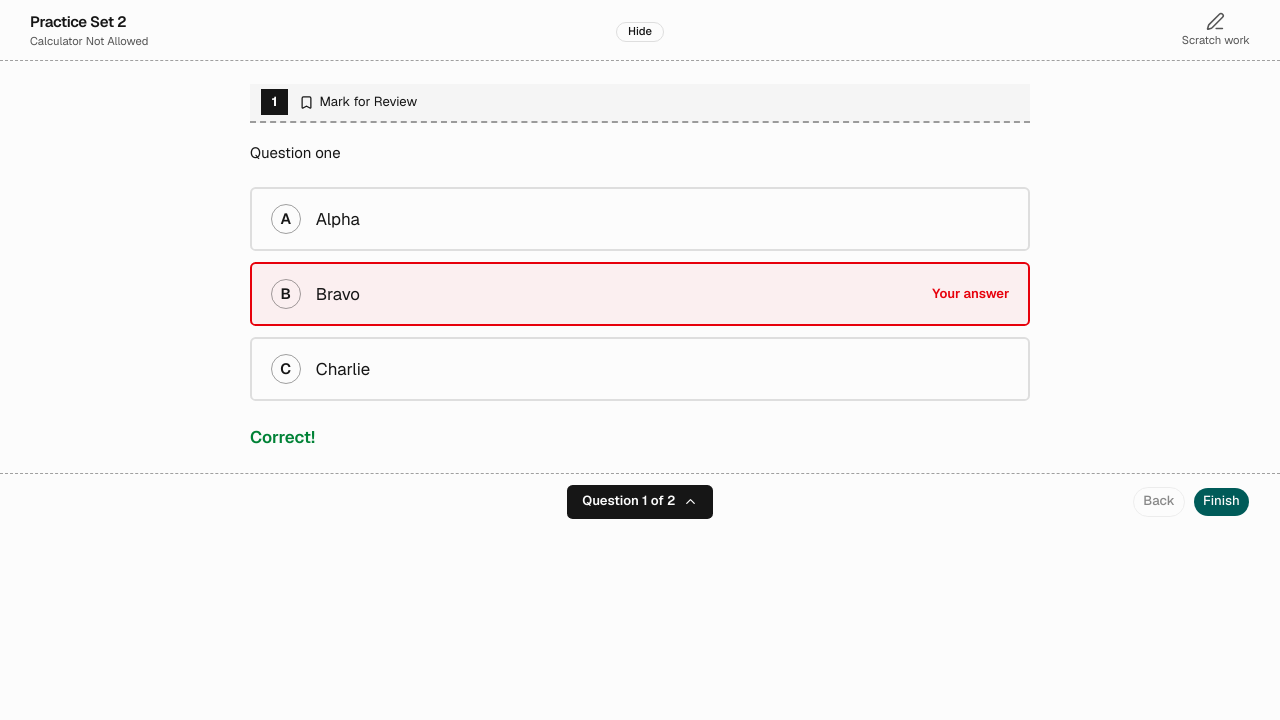
Test: SessionRunner — a session that can't go on › handles a block from finishing the same way
Step 1. Click the button "Finish" → (1221, 502), box [1193, 487, 1250, 517]
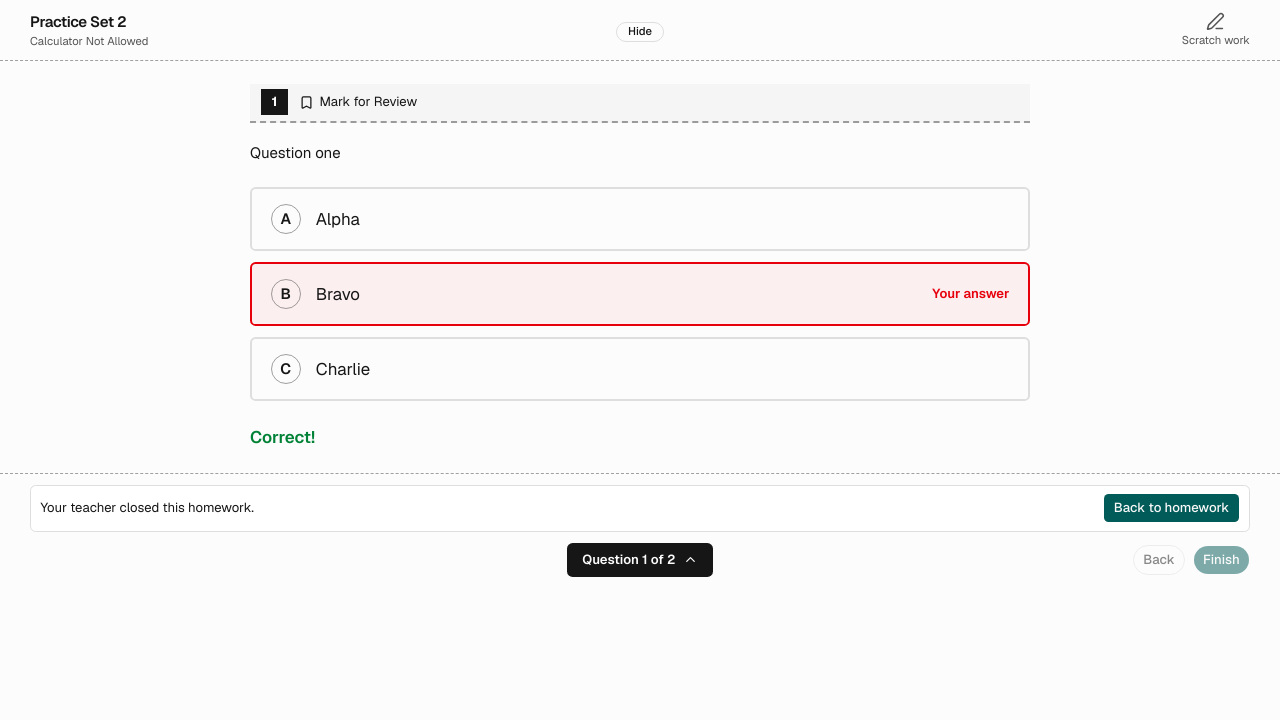
Check: the text "Your teacher closed this homework." is shown, box [40, 499, 254, 518]
Check: the button "Finish" is disabled, box [1193, 545, 1250, 575]
